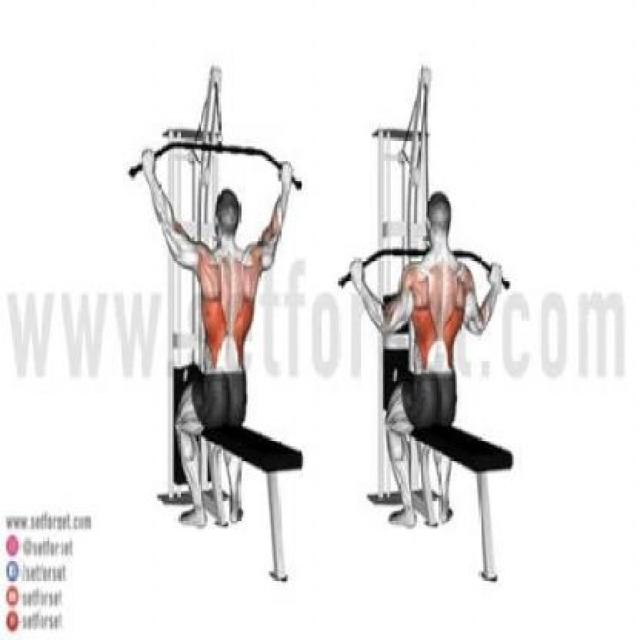Lat Pull Down: (122, 59, 326, 598), (337, 58, 521, 590)
